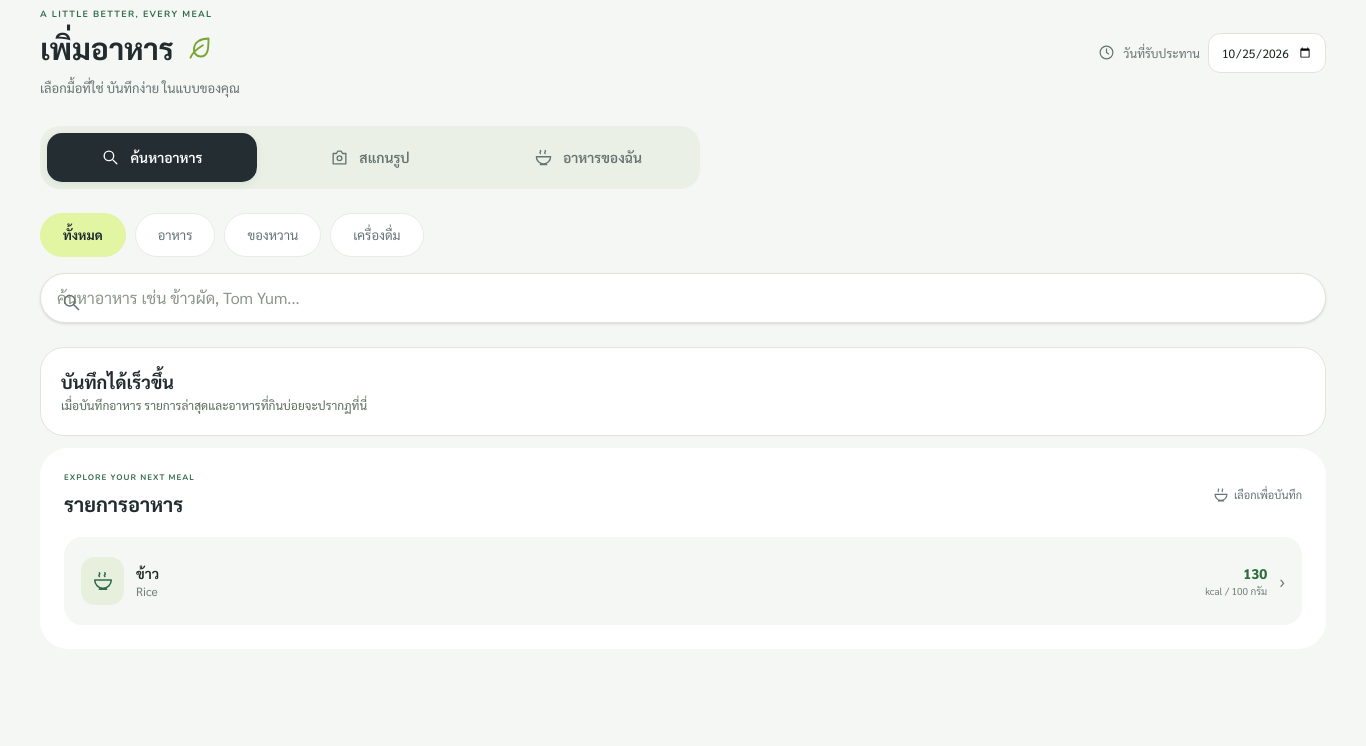
Test: nutrition units and complete editing › reuses personal food and converts known portion weight
Click the button "อาหารของฉัน" at (588, 157), box [483, 132, 693, 182]
(page scrolled)
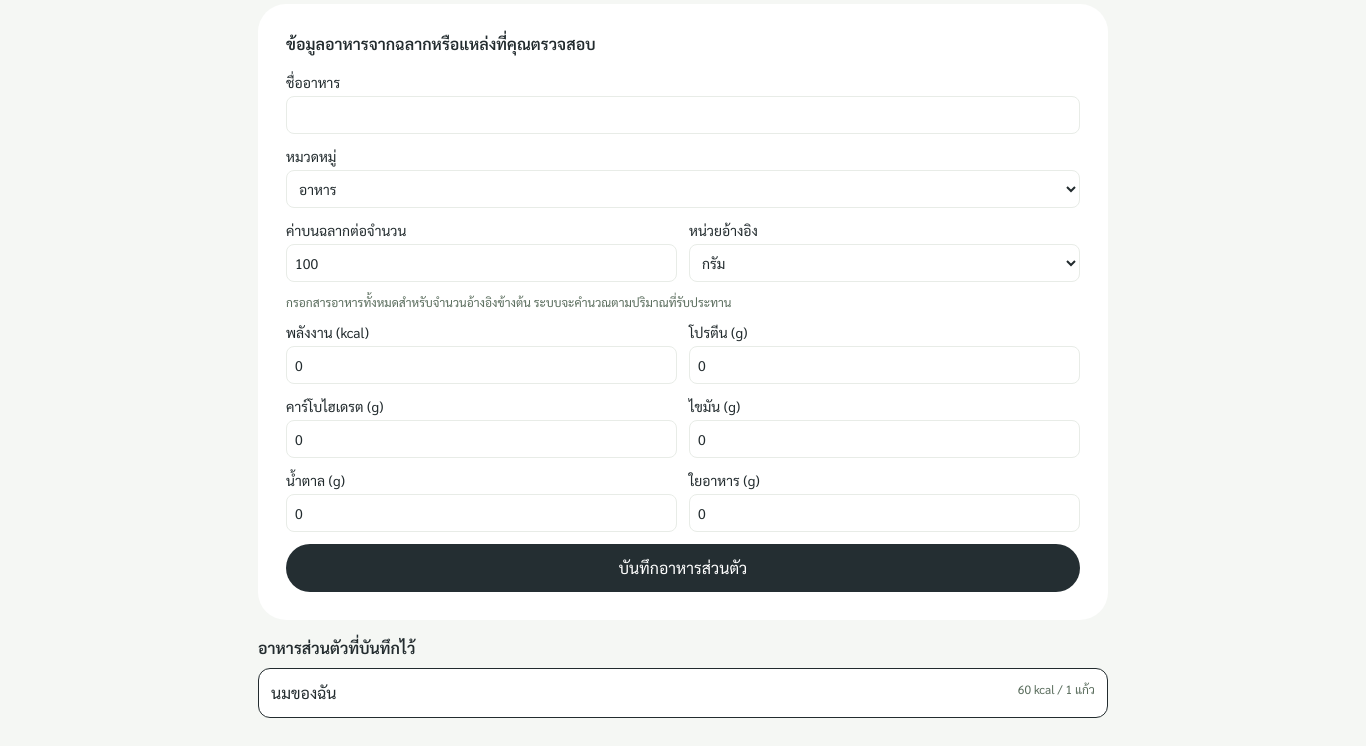
Click the button "นมของฉัน 60 kcal / 1 แก้ว" at (304, 692), box [258, 668, 1108, 718]
(page scrolled)
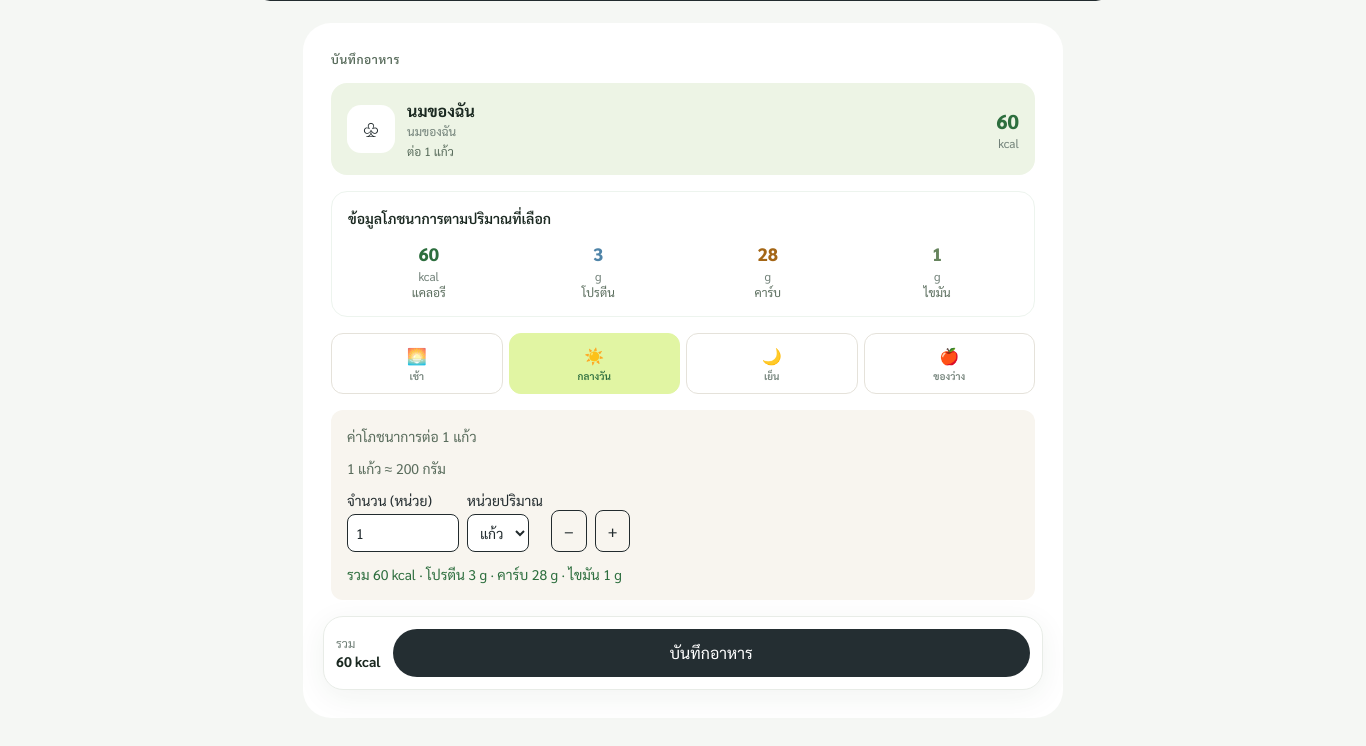
Replace the text in the number field labelled "จำนวน (หน่วย)" with "0.5" at (403, 532), box [347, 514, 459, 552]
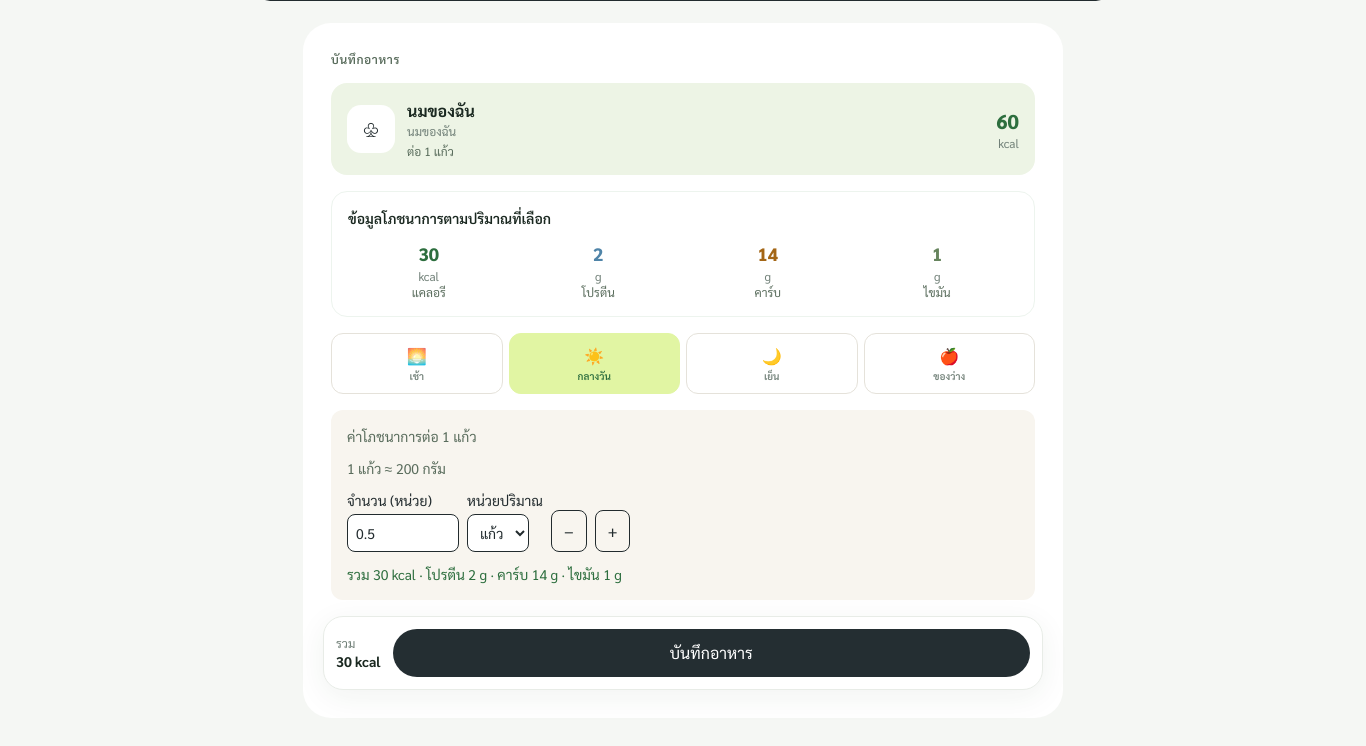
Select "กรัม" in the dropdown labelled "หน่วยปริมาณ" at (498, 532), box [467, 514, 529, 552]
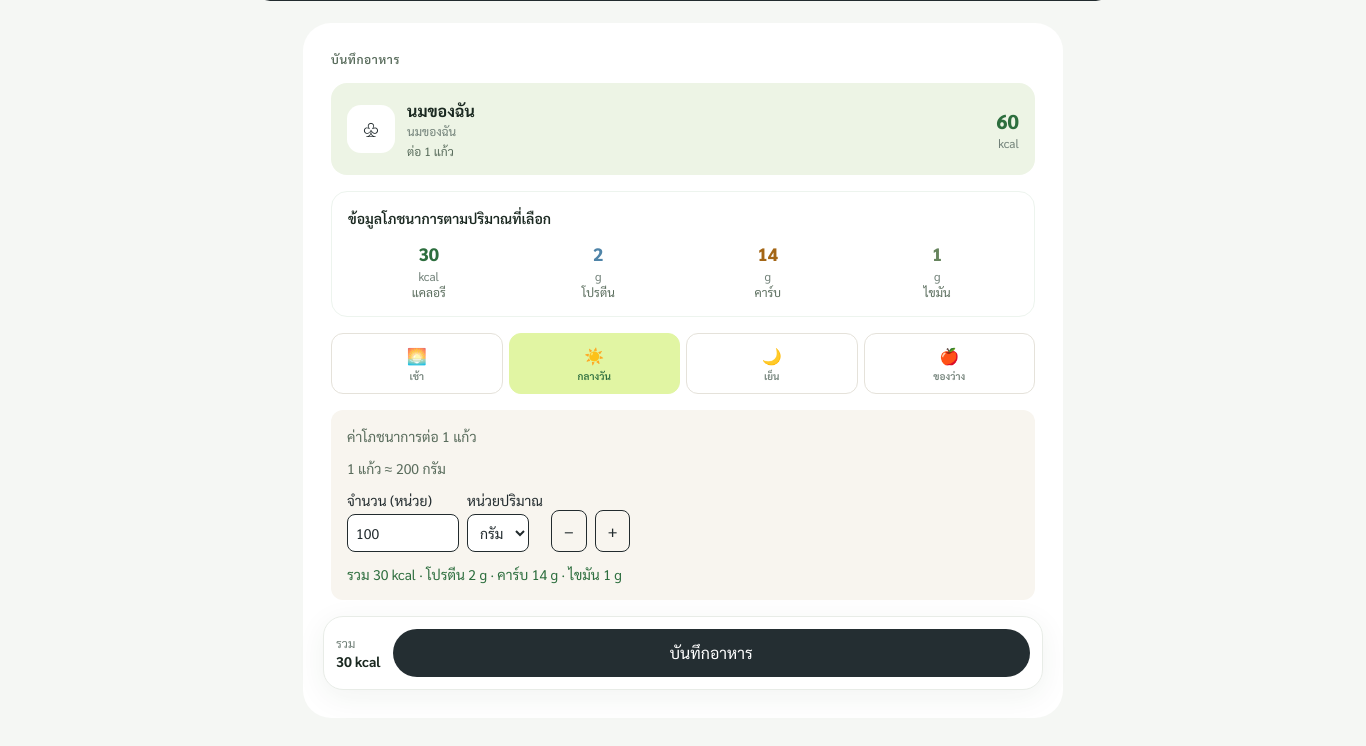
Result: the number field labelled "จำนวน (หน่วย)" holds "100" at [347, 514, 459, 552]
Click the button named "ลดจำนวนครึ่งหน่วย" at (569, 530), box [551, 510, 587, 552]
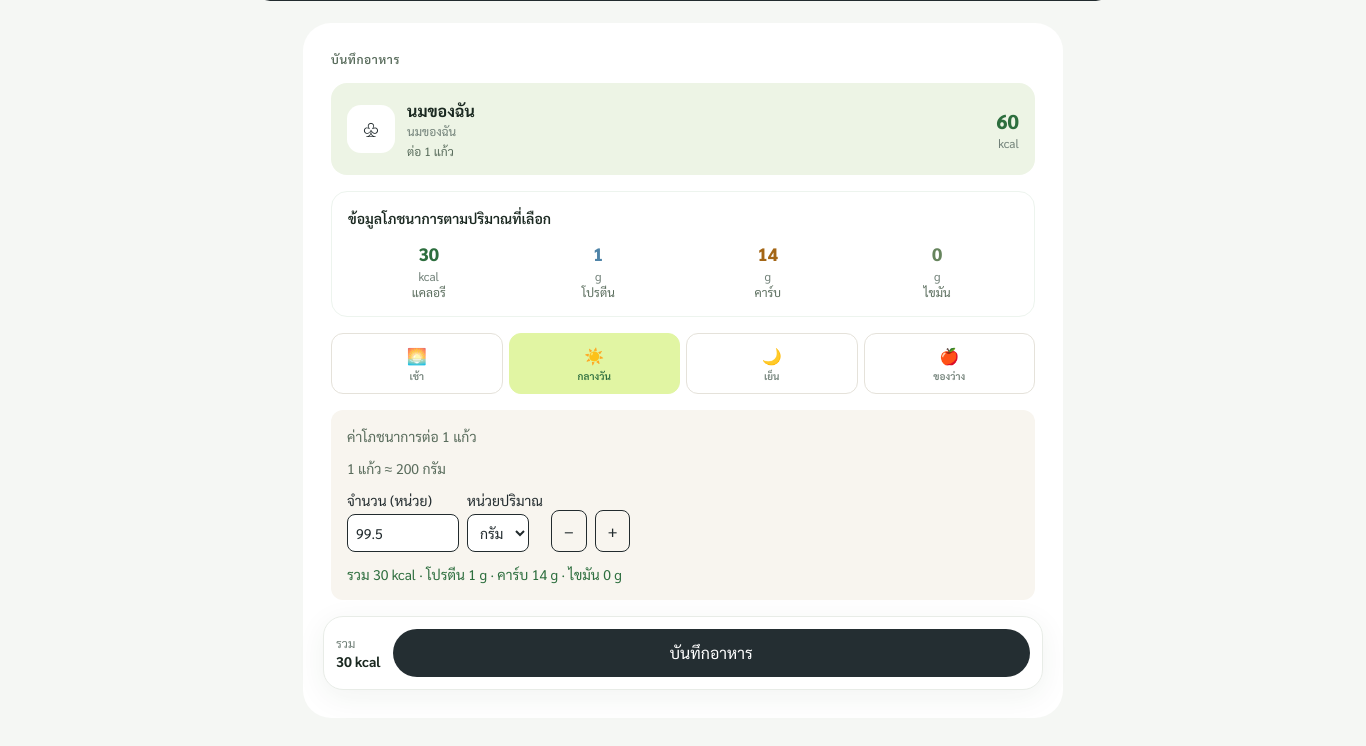
Result: the number field labelled "จำนวน (หน่วย)" holds "99.5" at [347, 514, 459, 552]
